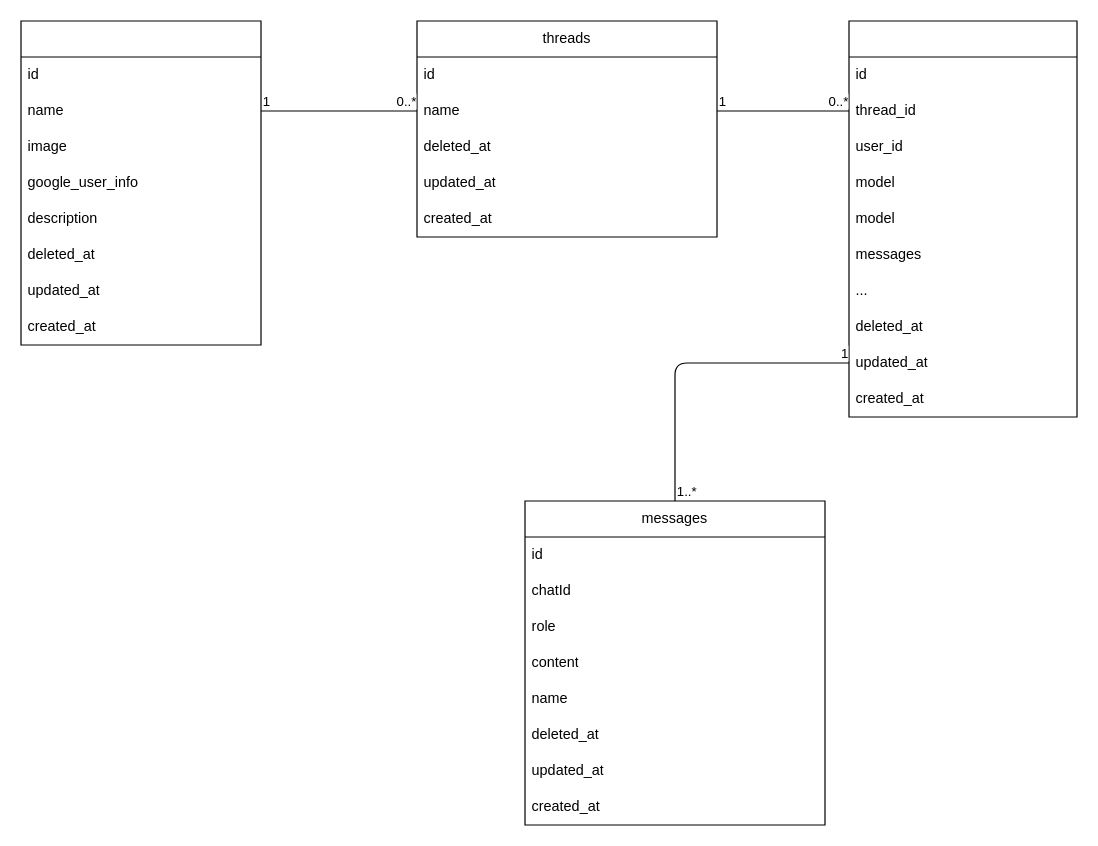
The diagram is 1098 pixels wide and 846 high, and some of its shapes have lost their labels. Each missing label, with the box of its shape:
chats: (848, 20, 1077, 417)
users: (20, 20, 261, 345)
